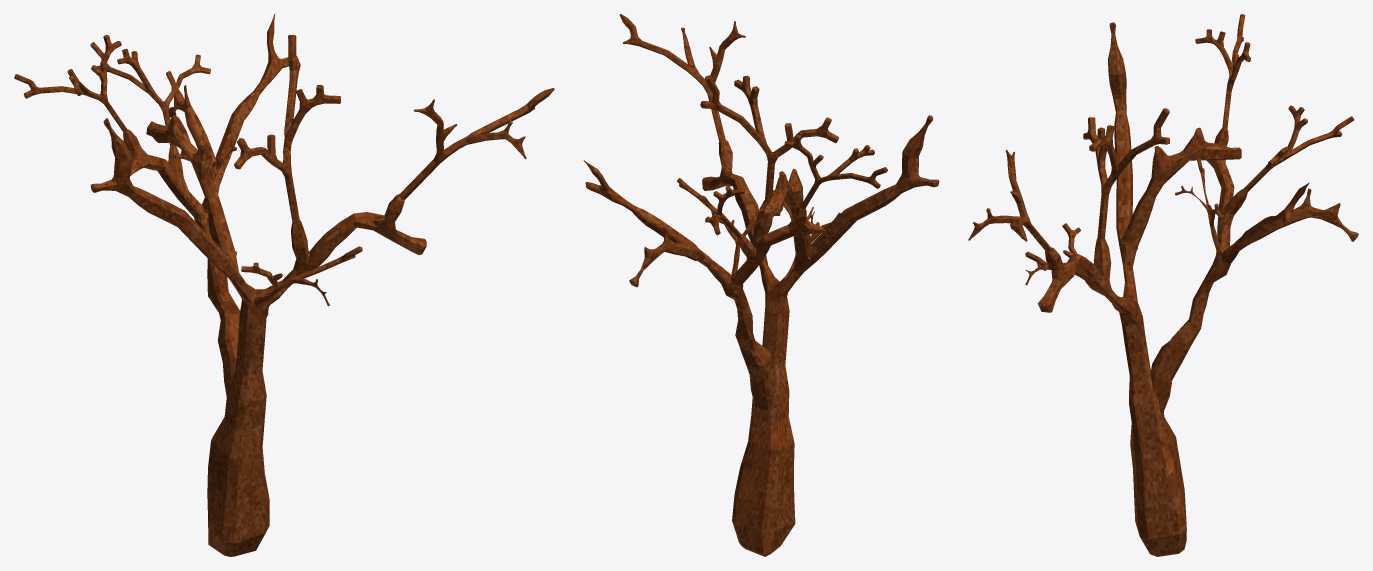
The model's file is TreeModel.fbx.
3 renders of one model, left to right at view 1: azimuth 30°, elevation 25°; view 2: azimuth 150°, elevation 25°; view 3: azimuth 270°, elevation 25°, orthographic. The views are drawn at different scales.
Parts seen in each view (by area): view 1: Cube.003; view 2: Cube.003; view 3: Cube.003.
Part boxes in pixels (box(x1,y1,x2,y2)): Cube.003: box(14, 14, 554, 556); Cube.003: box(583, 14, 939, 556); Cube.003: box(968, 14, 1358, 556).
Size of the model in its own units: 1539 by 1787 by 1341.
